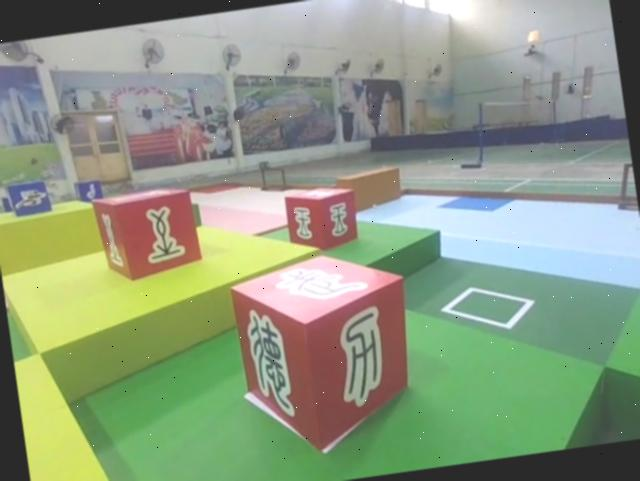R2 Fake: (224, 241, 427, 465)
R2 Real: (84, 176, 207, 289), (282, 177, 365, 260)
